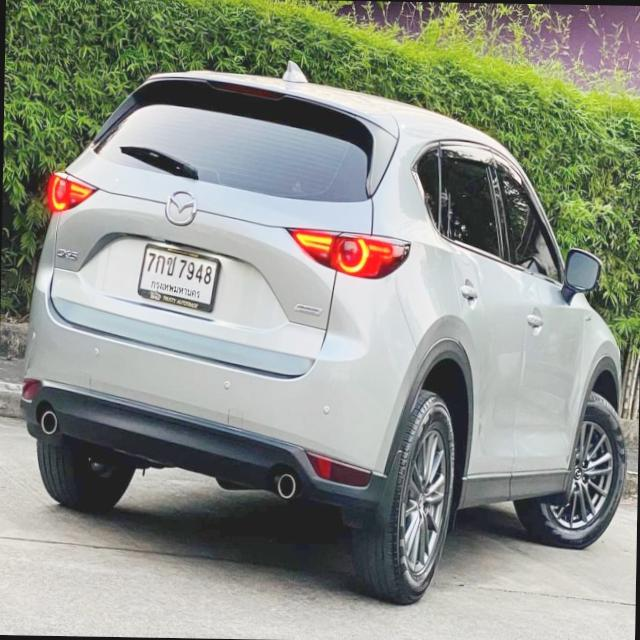license_plate: (134, 232, 222, 315)
